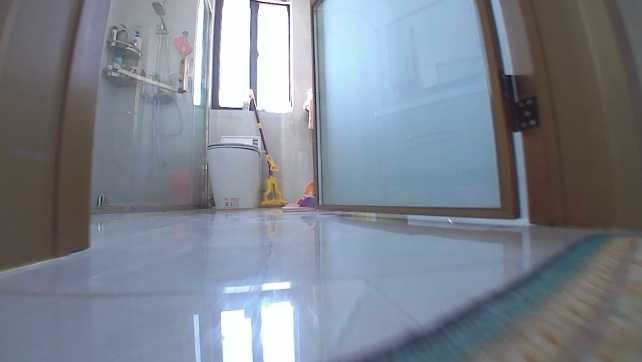door_anno: (306, 0, 525, 220)
toilet: (205, 133, 262, 211)
